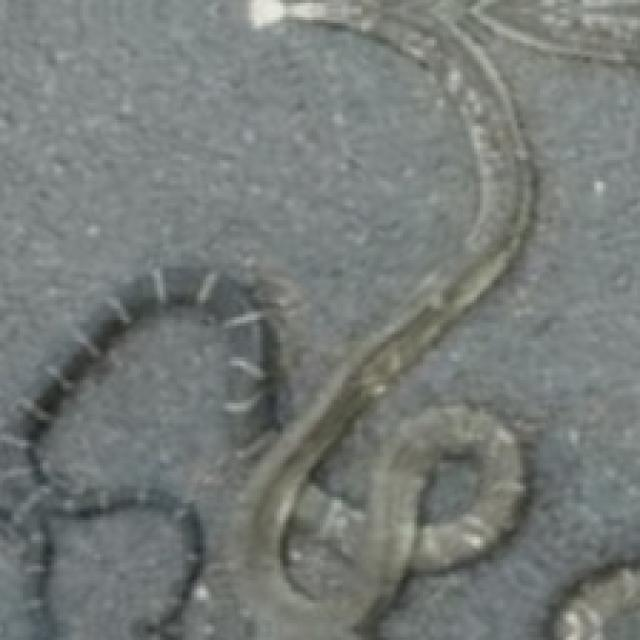king cobra: (0, 0, 449, 637), (329, 17, 637, 637)
